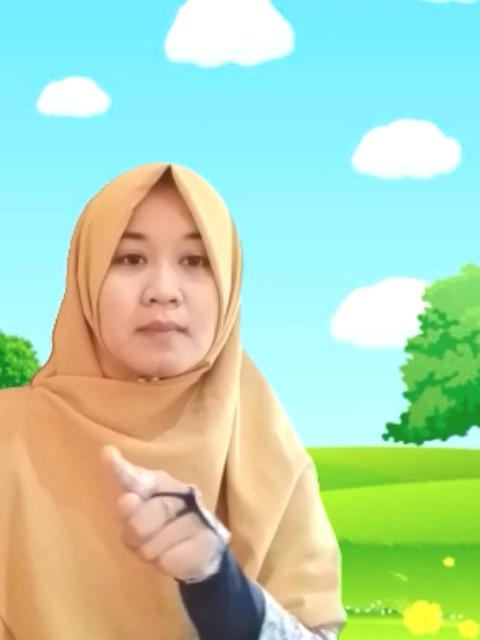Z: (92, 437, 240, 583)
